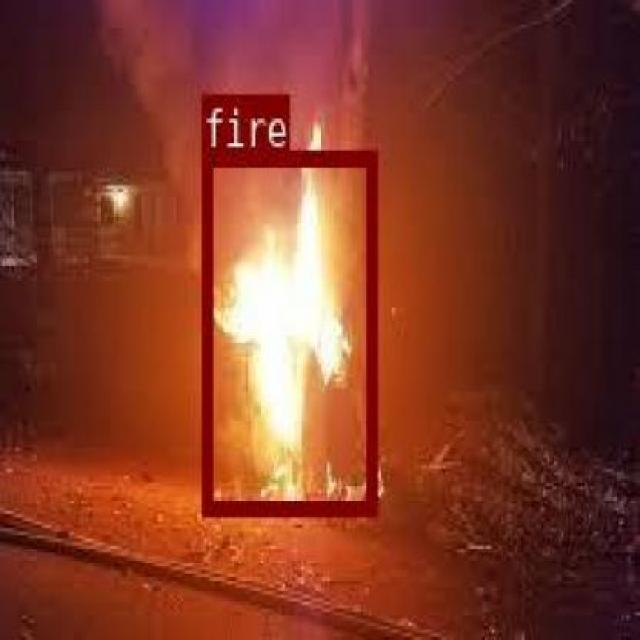Fire: (200, 150, 376, 512)
